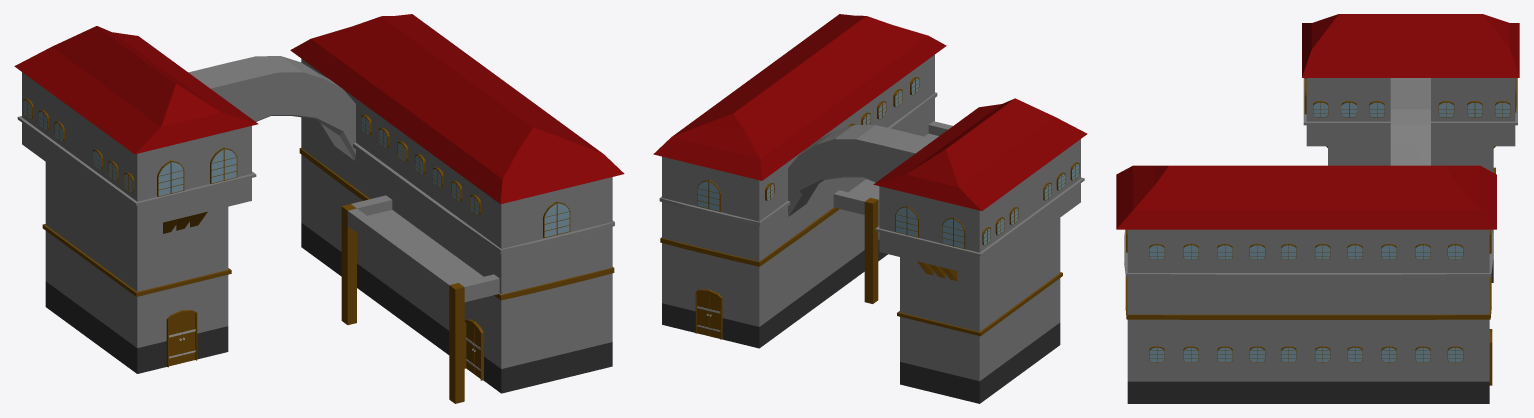
File: House1.fbx
The picture shows the model from 3 angles, left to right: view 1: azimuth 30°, elevation 25°; view 2: azimuth 150°, elevation 25°; view 3: azimuth 270°, elevation 25°; orthographic projection. The views are drawn at different scales.
Visible parts, largest first — view 1: House; view 2: House; view 3: House.
Part boxes in pixels (x1,y1,x2,y2): House: (14,14,624,403); House: (653,14,1087,403); House: (1116,14,1519,403).
Bounding box in the file's own units: 10.08 × 6.85 × 10.05.
